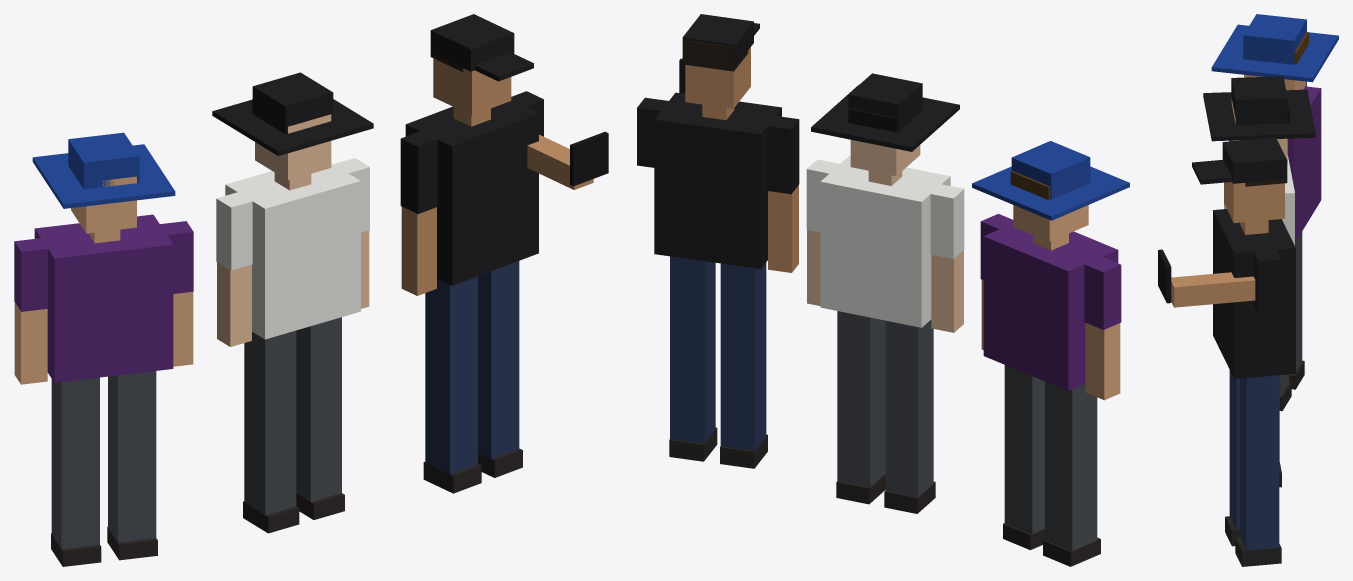
Rendered from crowd_b.dae.
The picture shows the model from 3 angles, left to right: view 1: azimuth 30°, elevation 25°; view 2: azimuth 150°, elevation 25°; view 3: azimuth 270°, elevation 25°; orthographic projection. The views are drawn at different scales.
Parts seen in each view (by area): view 1: marker; view 2: marker; view 3: marker.
Boxes of the visible parts, bbox=[...] form: marker: bbox=[14, 14, 608, 566]; marker: bbox=[637, 14, 1129, 566]; marker: bbox=[1158, 14, 1338, 566].
Size of the model in its own units: 2.29 by 0.7618 by 1.85.
